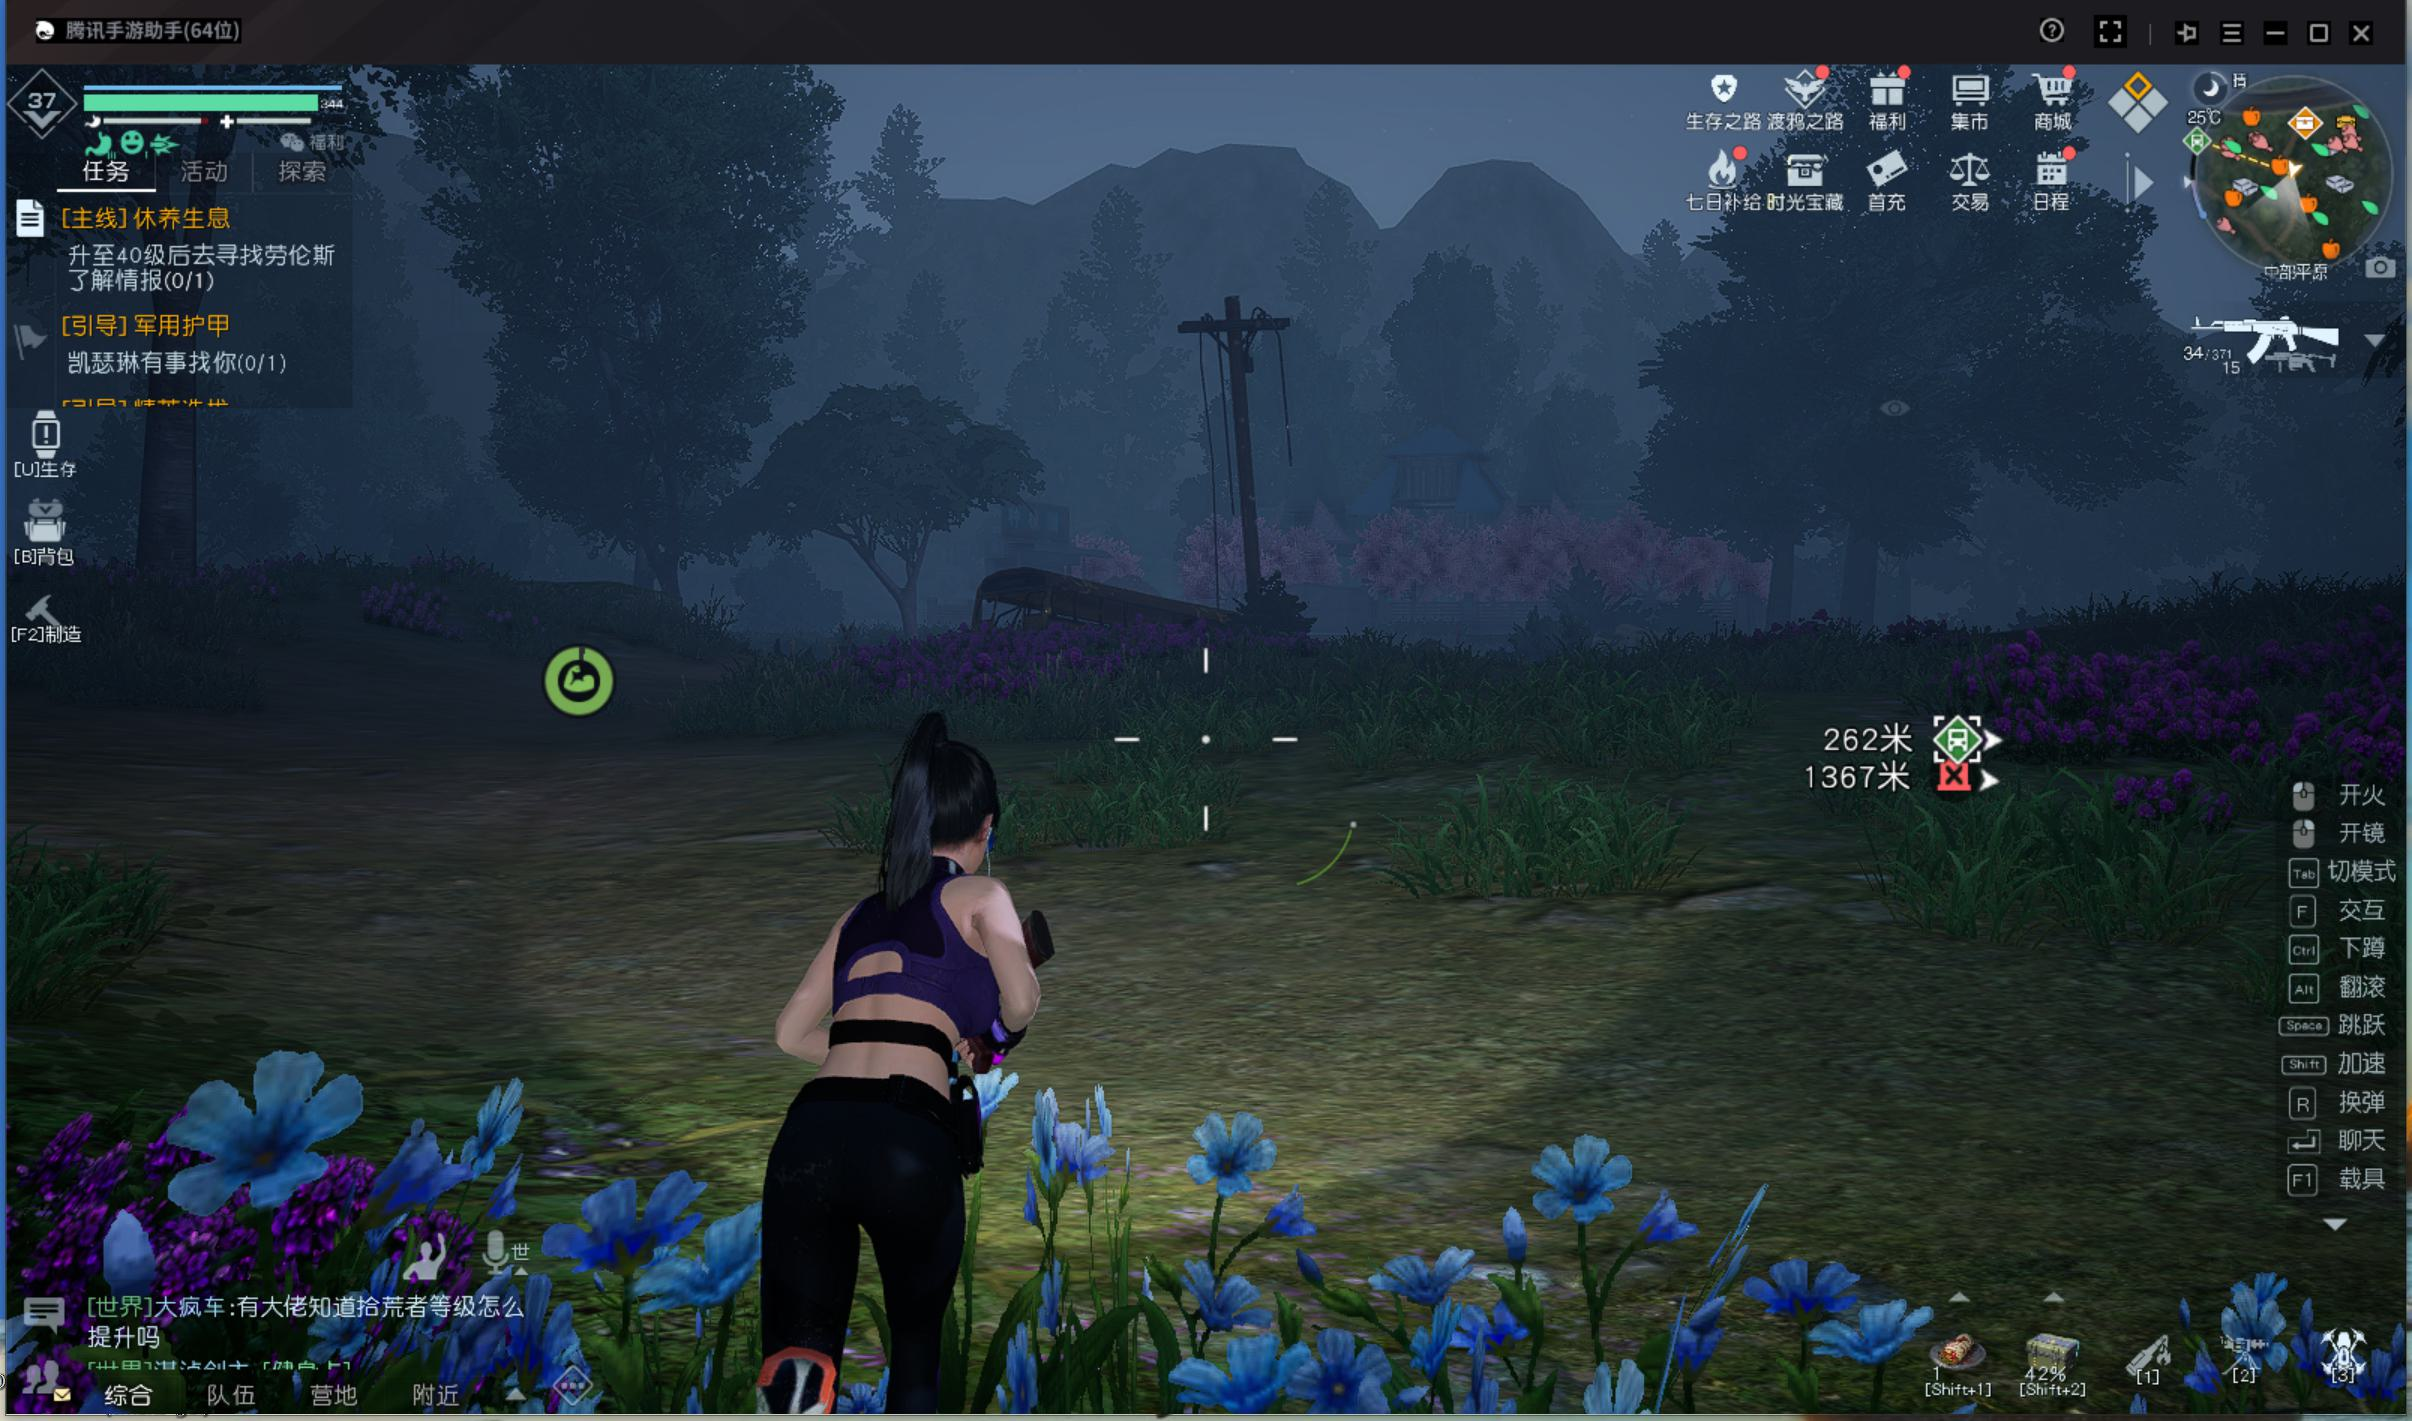tree: (137, 230, 203, 614), (1837, 536, 1884, 661), (1761, 551, 1801, 650)
